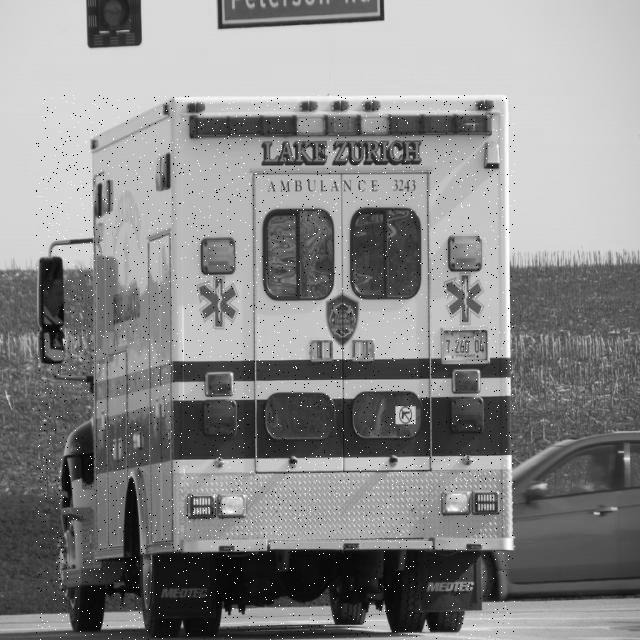Ambulance: (36, 95, 515, 640)
